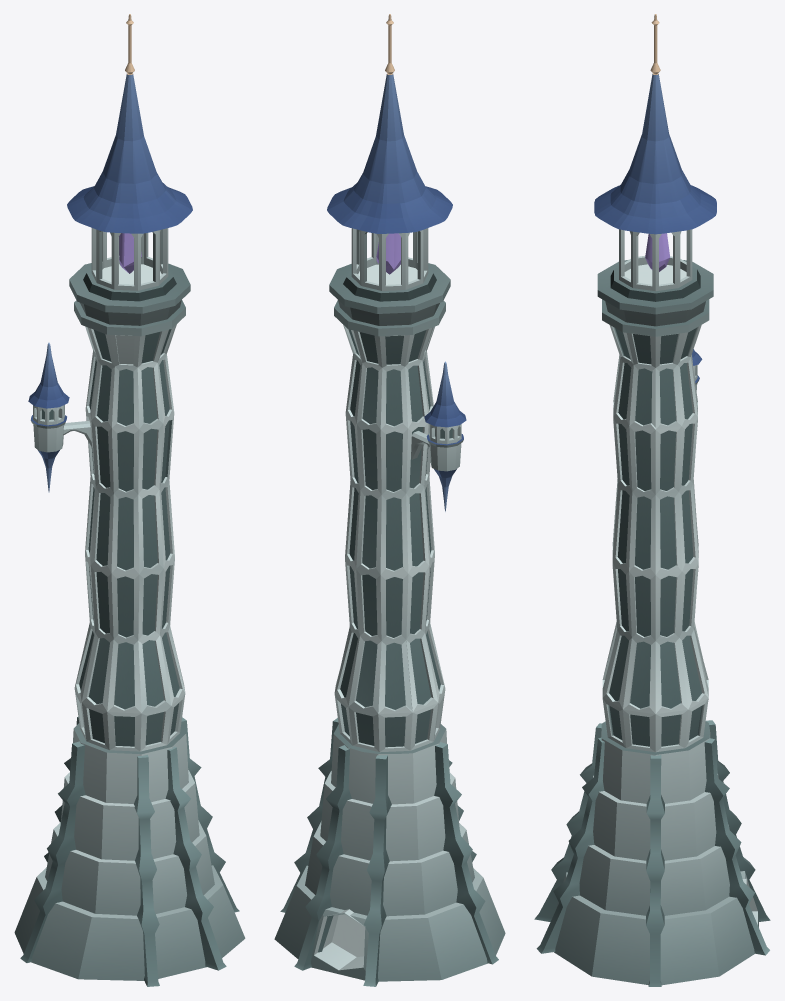
File: TheTower.fbx
3 renders of one model, left to right at view 1: azimuth 30°, elevation 25°; view 2: azimuth 150°, elevation 25°; view 3: azimuth 270°, elevation 25°, orthographic.
Parts seen in each view (by area): view 1: polySurface14; view 2: polySurface14; view 3: polySurface14.
Boxes of the visible parts, x1,y1,x2,y2 form: polySurface14: (14,14,245,986); polySurface14: (274,14,505,986); polySurface14: (534,14,770,986).
Size of the model in its own units: 164 by 158 by 680.
1 material, 1 textured.
